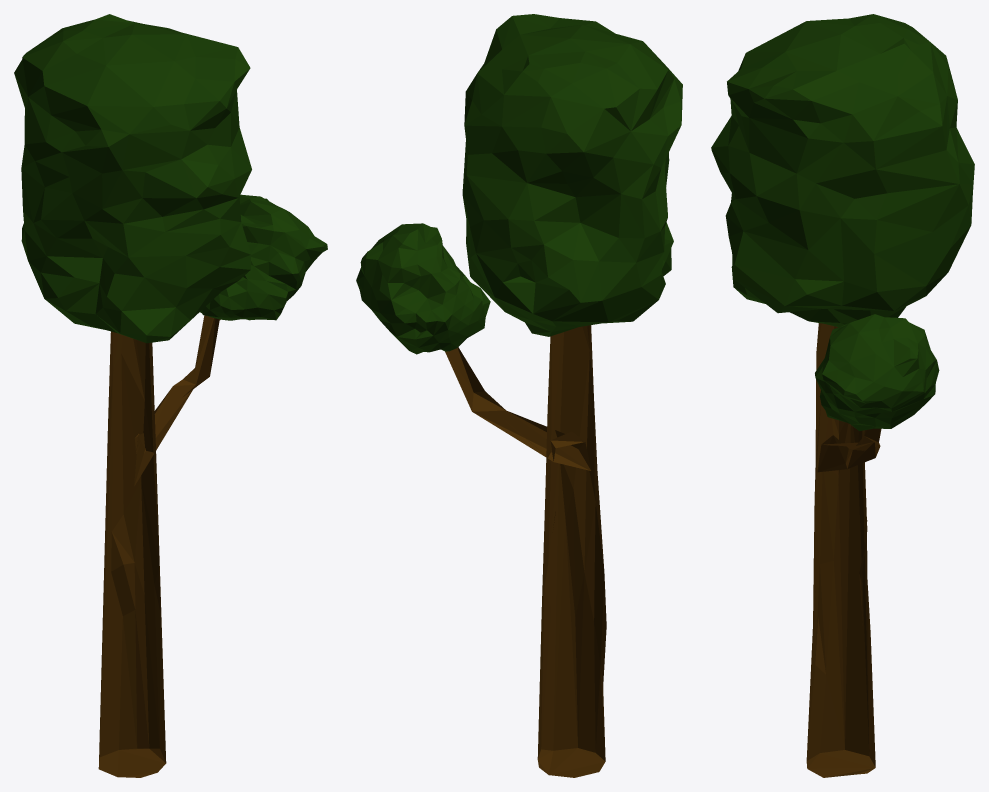
The model's file is tree_2.glb.
3 views of the same model, side by side, from view 1: azimuth 30°, elevation 25°; view 2: azimuth 150°, elevation 25°; view 3: azimuth 270°, elevation 25° (orthographic).
Visible parts, largest first — view 1: Icosphere.002; view 2: Icosphere.002; view 3: Icosphere.002.
Part boxes in pixels (bbox=[...]): Icosphere.002: bbox=[14, 14, 327, 777]; Icosphere.002: bbox=[356, 14, 682, 777]; Icosphere.002: bbox=[711, 14, 974, 777].
Size of the model in its own units: 2.31 by 5.46 by 1.79.
